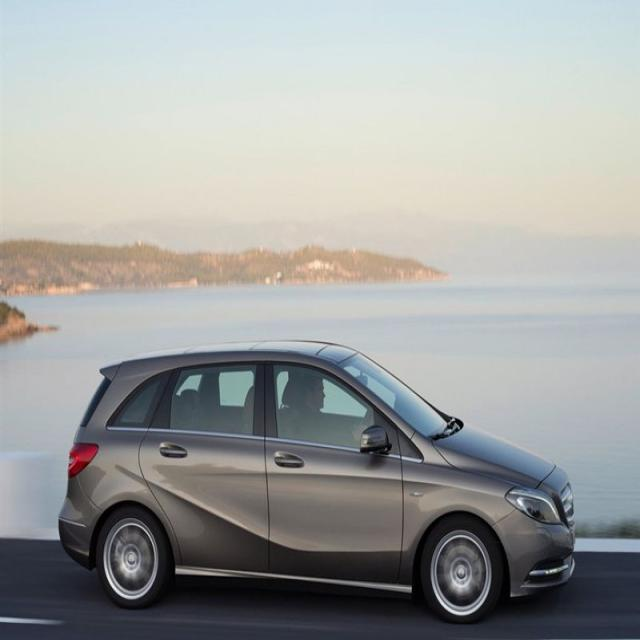back_right_side_light: (66, 442, 100, 478)
door: (136, 360, 280, 576)
front_bumper: (490, 468, 574, 600)
front_glass: (336, 349, 455, 441)
front_right_side_door: (262, 354, 406, 587)
front_right_side_light: (505, 482, 562, 526)
front_right_side_mirror: (358, 421, 389, 457)
rear_bumper: (58, 472, 102, 564)
wheel: (421, 515, 499, 624), (97, 506, 166, 608)
